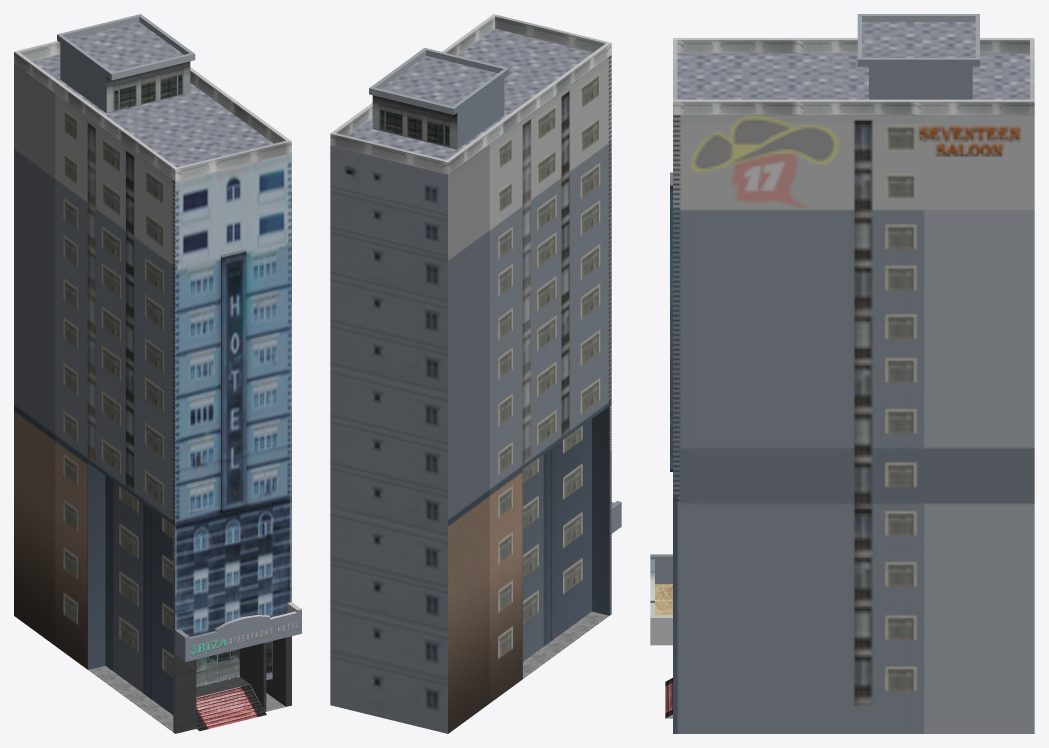
3 views of the same model, side by side, from view 1: azimuth 30°, elevation 25°; view 2: azimuth 150°, elevation 25°; view 3: azimuth 270°, elevation 25° (orthographic). The views are drawn at different scales.
Visible parts, largest first — view 1: 5cc2869fc0f4ed162005f0b6.001; view 2: 5cc2869fc0f4ed162005f0b6.001; view 3: 5cc2869fc0f4ed162005f0b6.001.
Part boxes in pixels (left/top/right/bottom): 5cc2869fc0f4ed162005f0b6.001: left=14, top=14, right=301, bottom=733; 5cc2869fc0f4ed162005f0b6.001: left=330, top=14, right=621, bottom=733; 5cc2869fc0f4ed162005f0b6.001: left=650, top=14, right=1034, bottom=733.
Bounding box in the file's own units: 10 × 48.8 × 25.5.
1 material, 1 textured.
